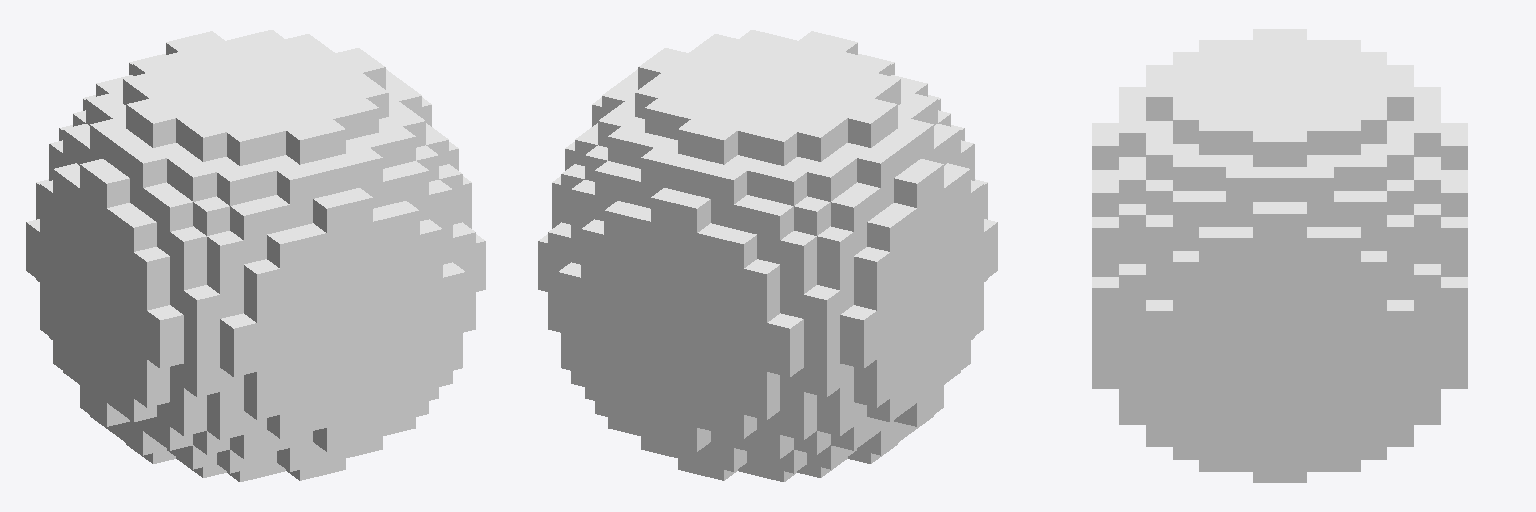
File: Slime.obj
3 renders of one model, left to right at view 1: azimuth 30°, elevation 25°; view 2: azimuth 150°, elevation 25°; view 3: azimuth 270°, elevation 25°, orthographic.
Parts seen in each view (by area): view 1: object 1; view 2: object 1; view 3: object 1.
Boxes of the visible parts, <box> form: object 1: <box>26,30,485,481</box>; object 1: <box>538,30,997,481</box>; object 1: <box>1092,29,1467,482</box>.
Size of the model in its own units: 2.8 by 2.8 by 2.8.